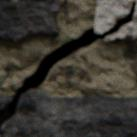brick: (0, 0, 60, 40)
broken_brick: (0, 90, 136, 136), (95, 0, 133, 32), (105, 5, 136, 39), (0, 93, 13, 108)
crack: (0, 0, 136, 135)
